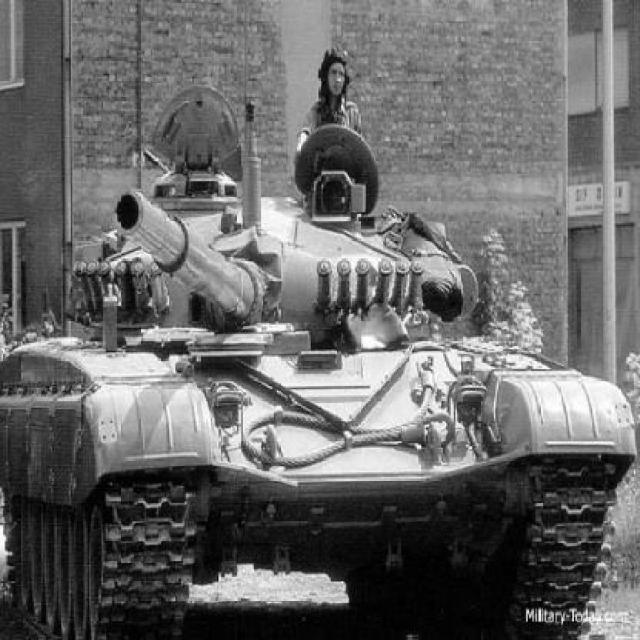Person: (295, 43, 361, 164)
Tank: (1, 84, 639, 639)
